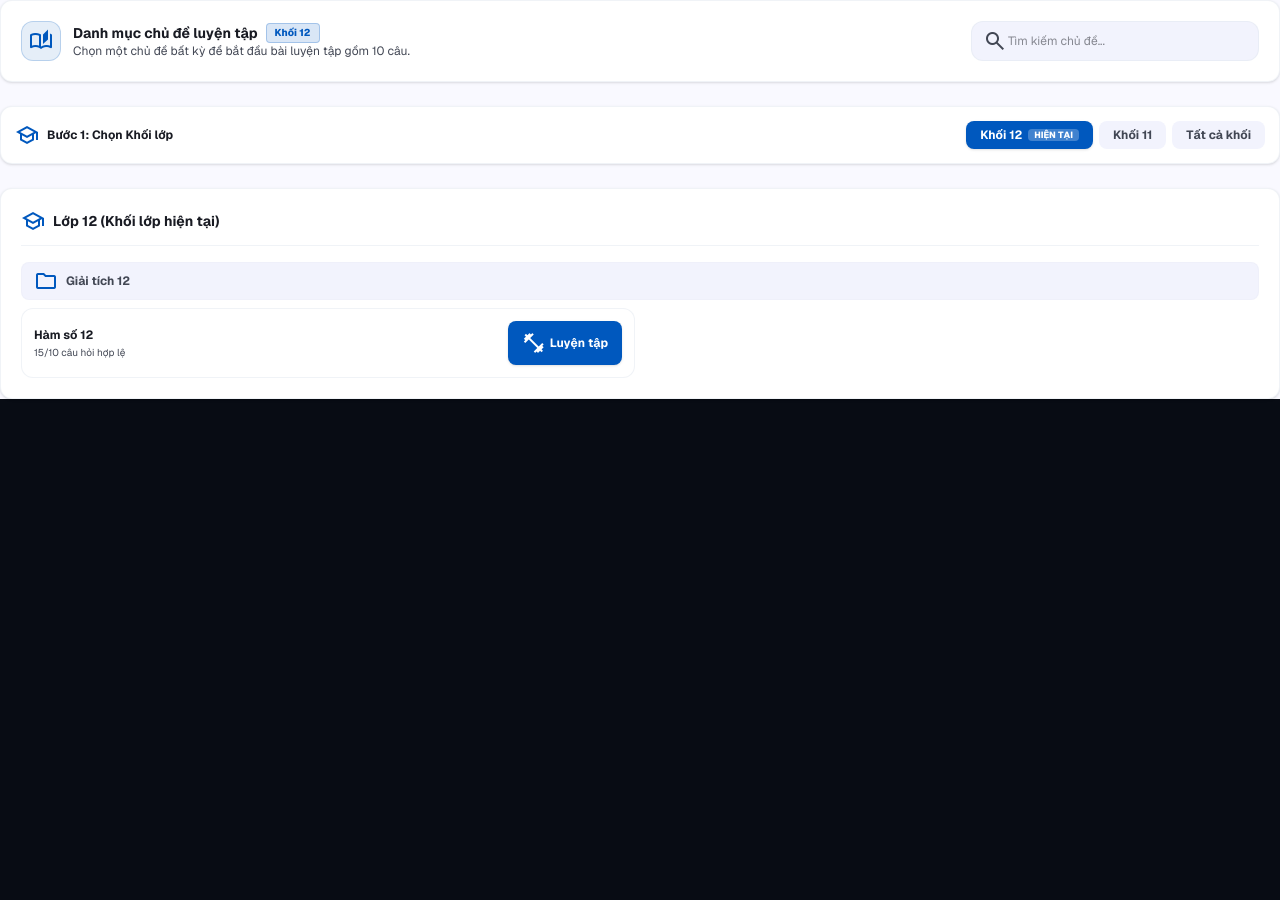
Scenario: PracticeSetupPanel - Grade Filtering & Stale Option Sync › closes dialog and displays notice when stale topic becomes unavailable after refresh
// Select "Hàm số 12" to open confirm dialog
Click the button with aria-label "Luyện tập chủ đề Hàm số 12" at (565, 343), box [508,321,622,365]
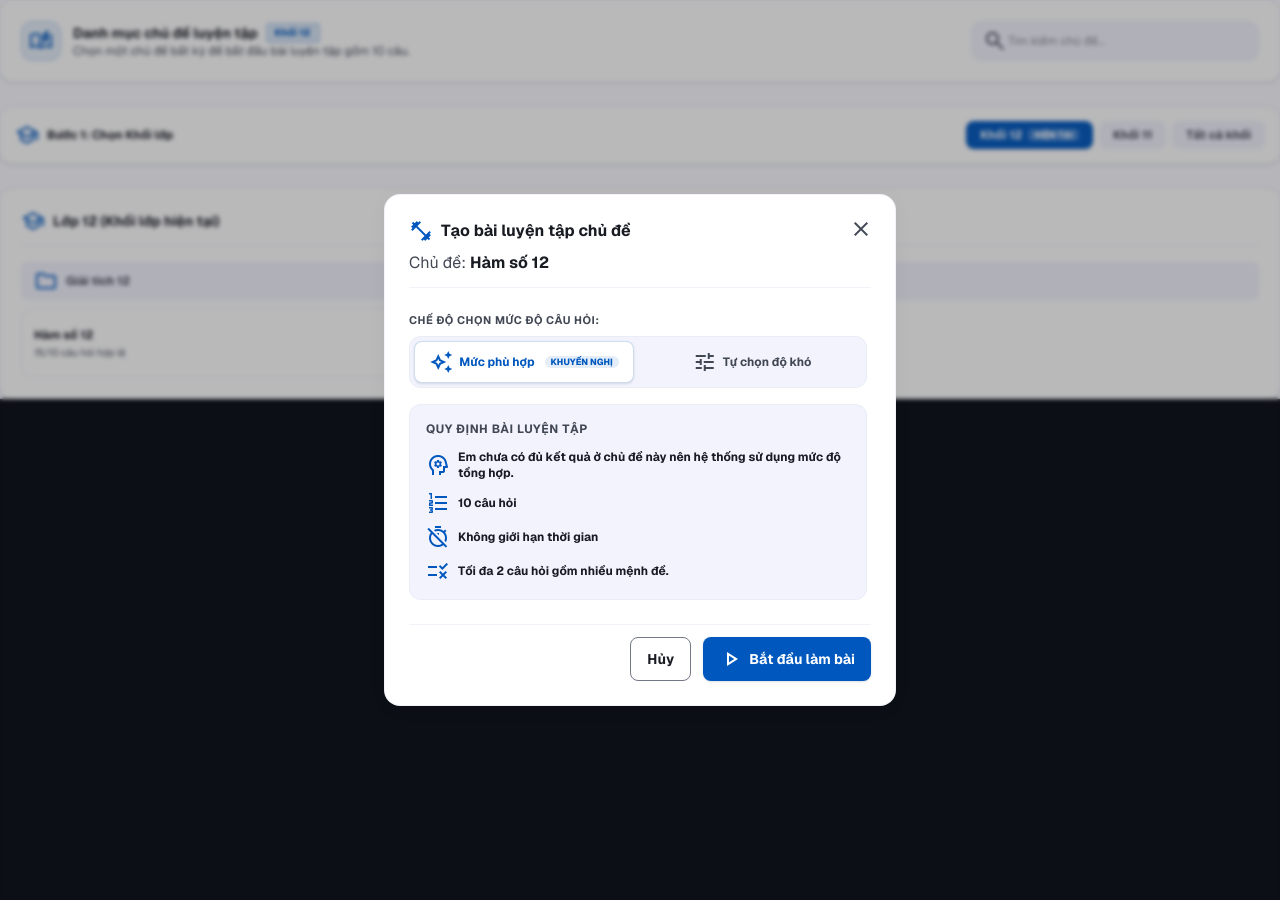
Expected: the heading "Tạo bài luyện tập chủ đề" is shown, [409,217,631,245]
Click the button "Bắt đầu làm bài" at (787, 659), box [703,637,871,681]
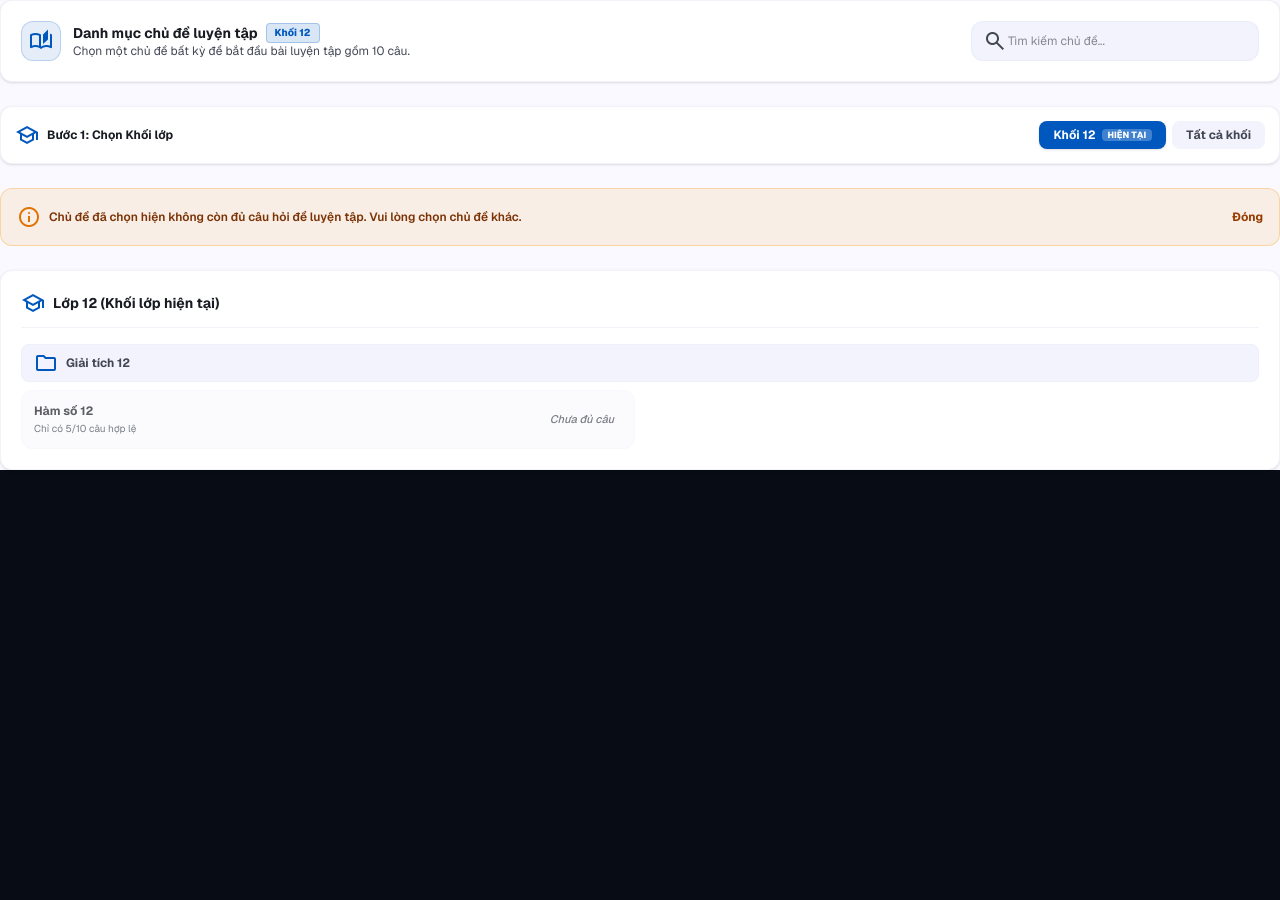
Expected: the heading "Tạo bài luyện tập chủ đề" is gone
Expected: the text "Chủ đề đã chọn hiện không còn đủ câu hỏi để luyện tập. Vui lòng chọn chủ đề khác." is shown, [49,209,521,225]
